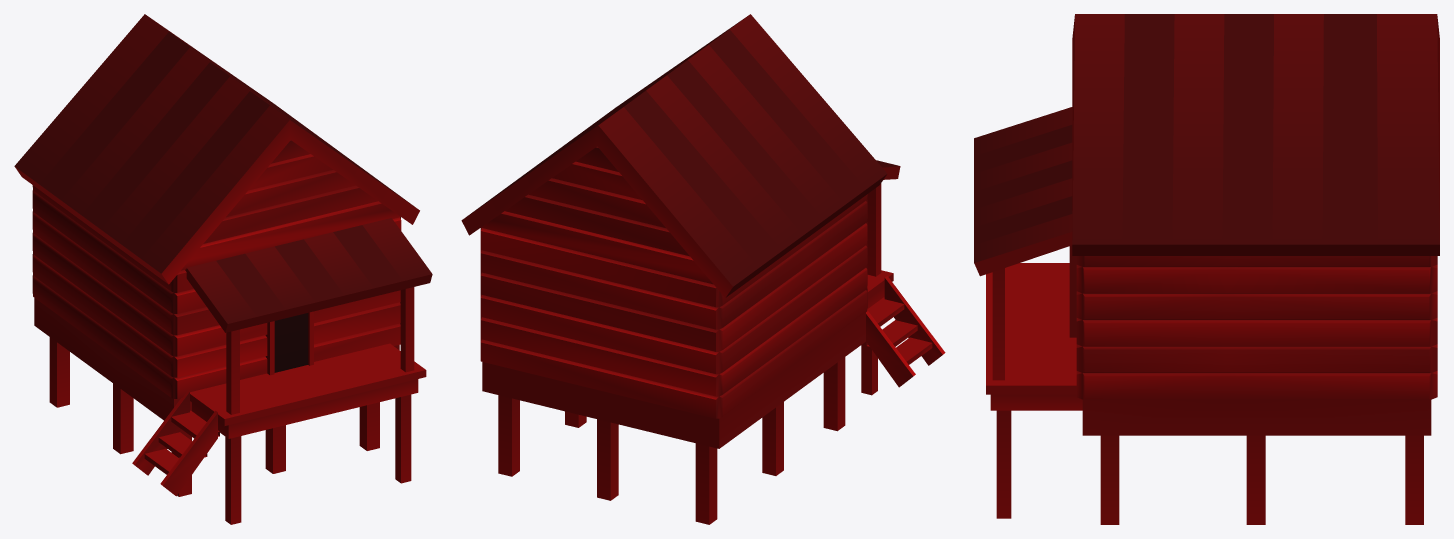
Rendered from buildings-residential-greenhut_v1.fbx.
3 renders of one model, left to right at view 1: azimuth 30°, elevation 25°; view 2: azimuth 150°, elevation 25°; view 3: azimuth 270°, elevation 25°, orthographic. The views are drawn at different scales.
Parts seen in each view (by area): view 1: GreenHut.001; view 2: GreenHut.001; view 3: GreenHut.001.
Boxes of the visible parts, left/top/right/bottom form: GreenHut.001: left=14, top=14, right=432, bottom=524; GreenHut.001: left=461, top=14, right=945, bottom=524; GreenHut.001: left=974, top=14, right=1439, bottom=524.
Bounding box in the file's own units: 7.28 × 8.76 × 8.22.
